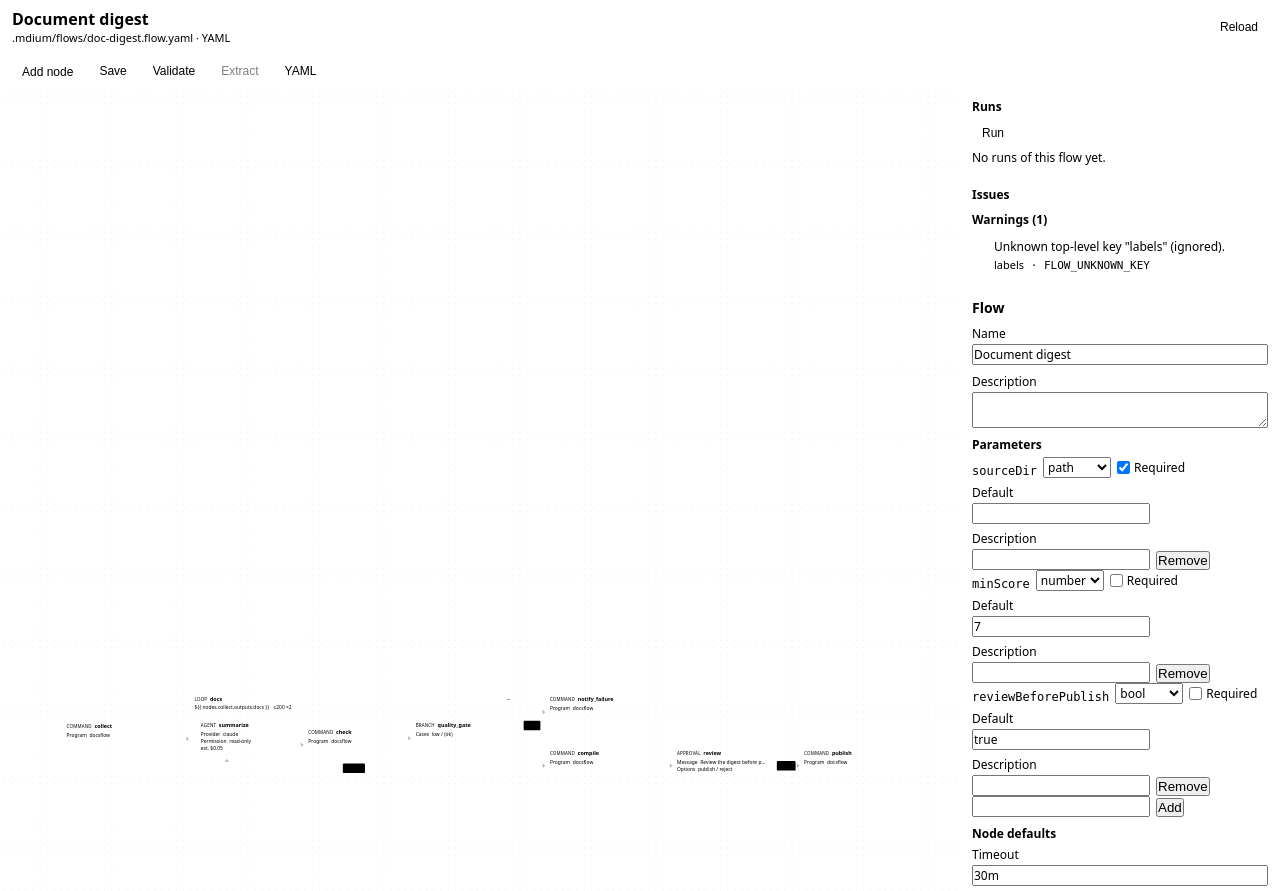
Test: flow views › renders the doc-digest graph with its loop body and issues
Check: the element with class "flow-toolbar" is shown, box [12,60,326,82]
Check: the element with class "flow-group" is shown, box [195,694,513,710]
Click the button with class "flow-node__toggle": (509, 699) [504,694,513,704]
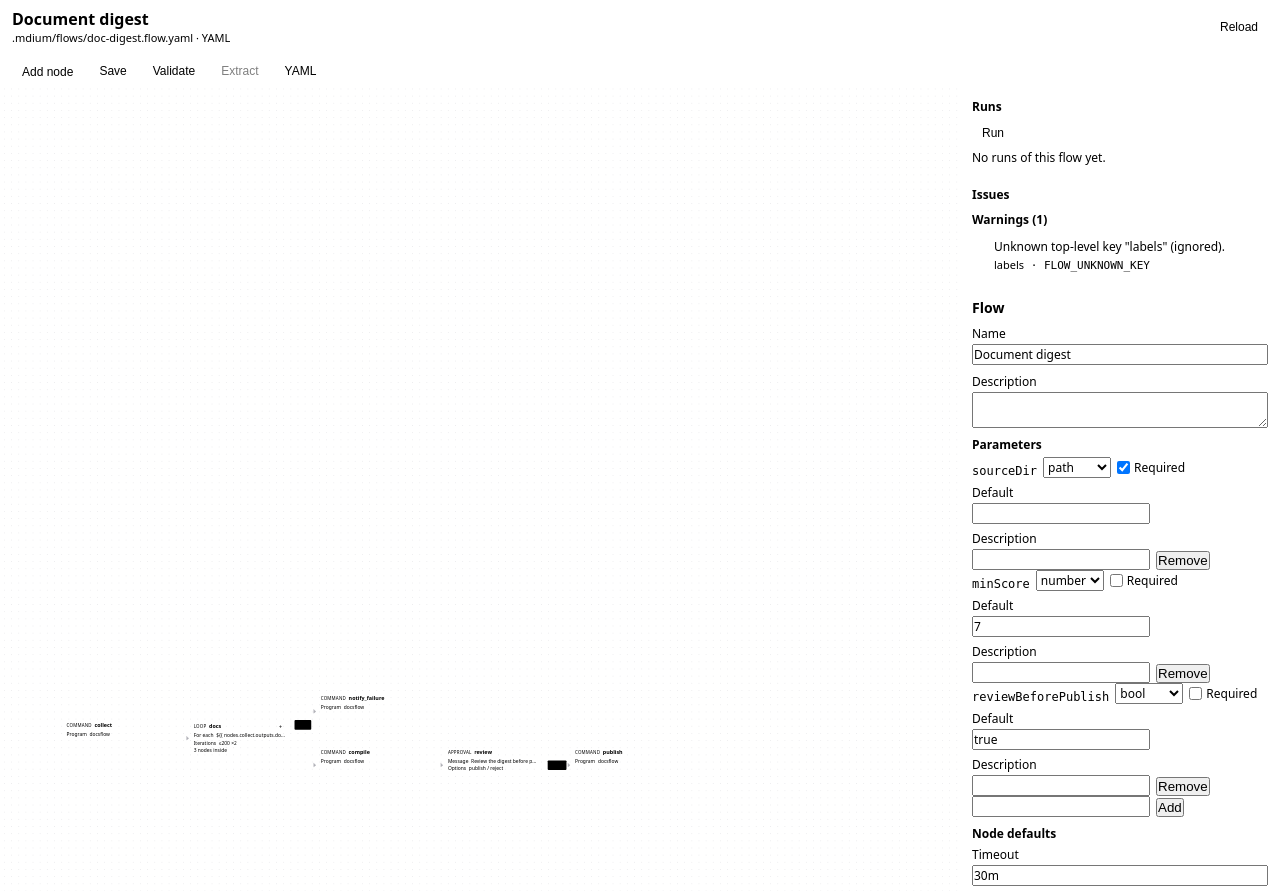
Check: the number of elements with class "react-flow__node" is 6, box [67,721,112,737]; [190,719,289,758]; [321,748,370,764]; [448,748,554,772]; [575,748,623,764]; [321,694,384,711]
Check: the text "3 nodes inside" is shown, box [194,746,227,753]
